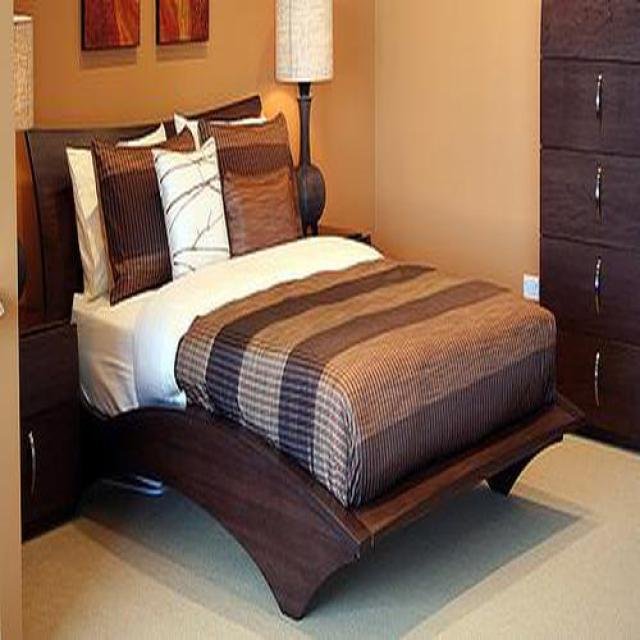bed: (26, 97, 588, 621)
